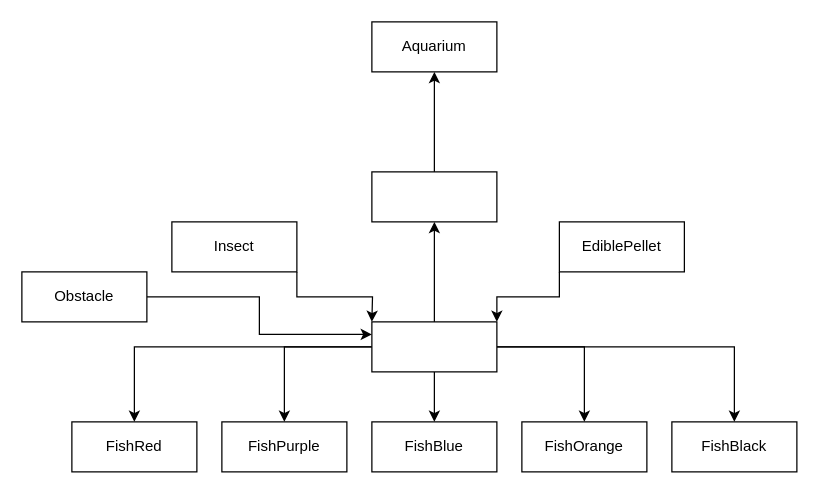
Image size: 819x494. Some labels were removed from this diagram. Each missing label, with the centre of its shape:
"Board" belongs at point 434,196.
"Fish" belongs at point 434,346.
